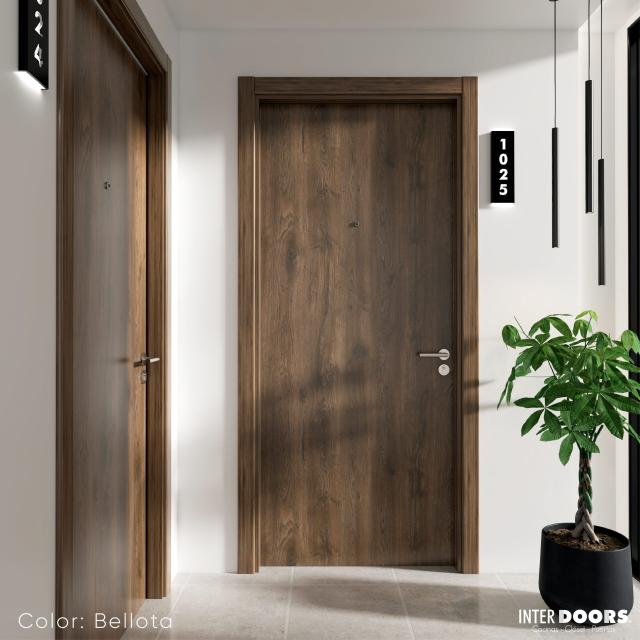door: (237, 76, 467, 572)
